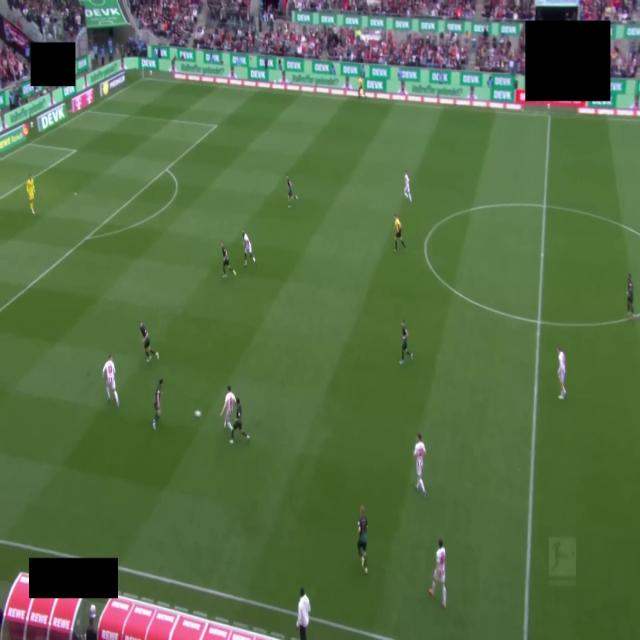ball: (195, 410, 201, 417)
player: (429, 539, 446, 607), (230, 398, 249, 443), (103, 355, 118, 406), (140, 320, 158, 361), (414, 433, 425, 495), (221, 386, 236, 431), (358, 506, 368, 573), (400, 320, 413, 364), (152, 379, 163, 430), (221, 242, 236, 278), (242, 232, 255, 266), (558, 348, 566, 399), (286, 176, 297, 207), (26, 175, 34, 215), (627, 274, 634, 318), (404, 172, 412, 202)
referee: (394, 215, 406, 252)
